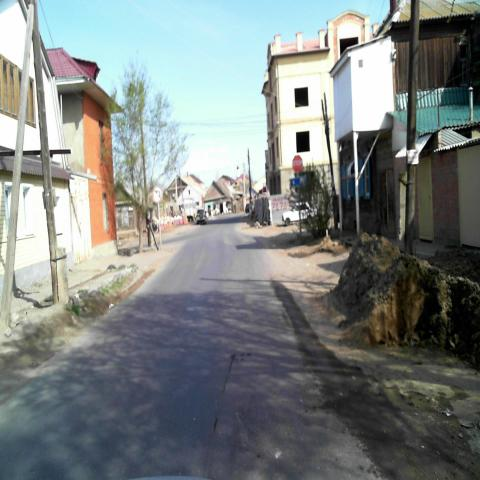3_18_2: (152, 185, 162, 203)
